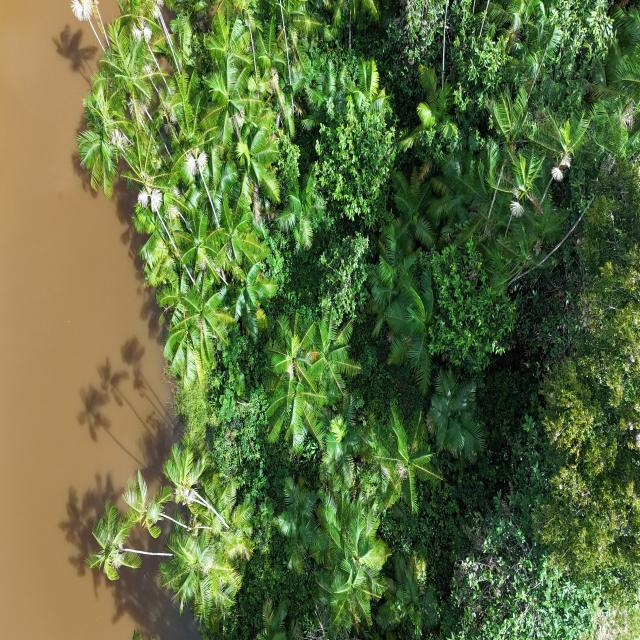vegetation: (66, 1, 637, 638)
